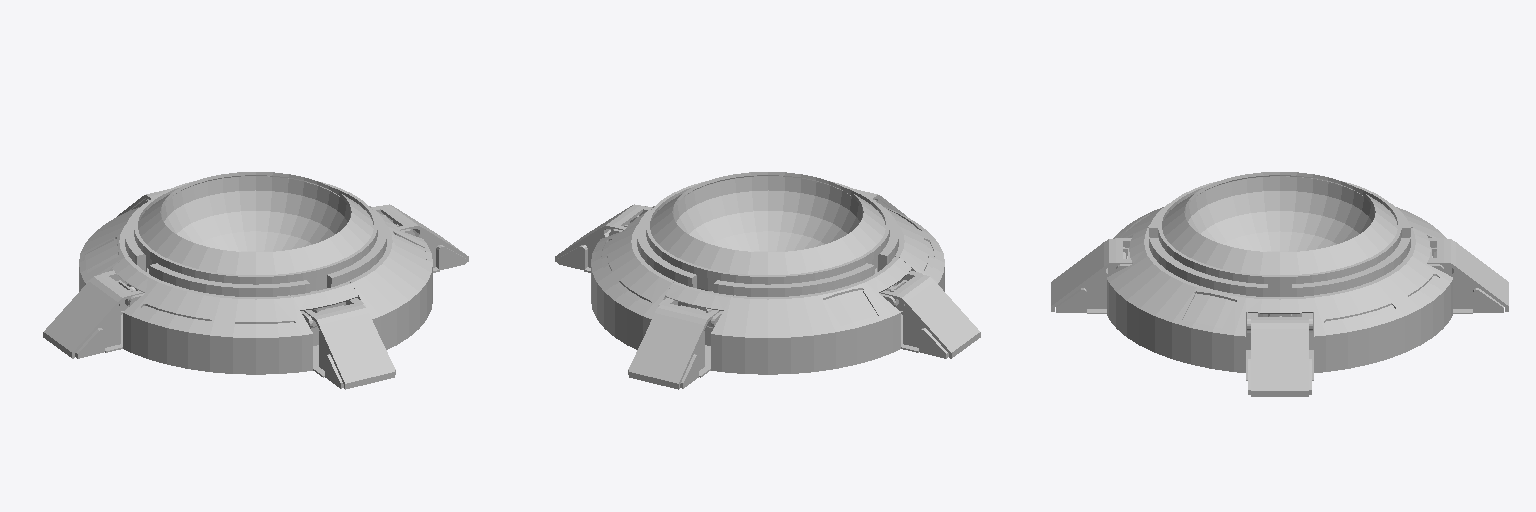
Rendered from ball_button.obj.
3 views of the same model, side by side, from view 1: azimuth 30°, elevation 25°; view 2: azimuth 150°, elevation 25°; view 3: azimuth 270°, elevation 25° (orthographic).
Visible parts, largest first — view 1: ball_socket_model; view 2: ball_socket_model; view 3: ball_socket_model.
Part boxes in pixels (x1,y1,x2,y2): ball_socket_model: (43,172,468,389); ball_socket_model: (555,172,980,389); ball_socket_model: (1051,172,1508,396).
Bounding box in the file's own units: 0.8594 × 0.1821 × 0.8594.